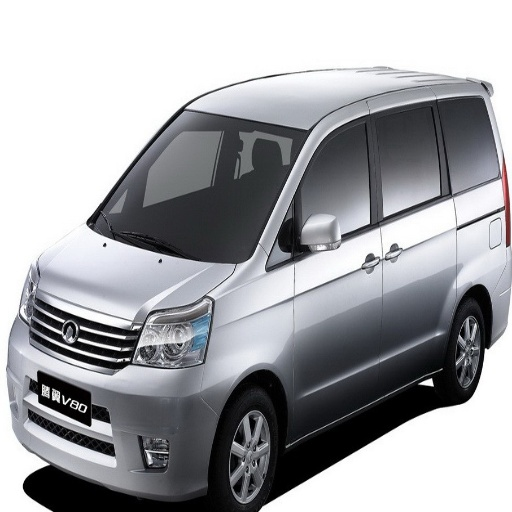front_bumper: (9, 335, 234, 495)
front_glass: (87, 111, 310, 259)
front_left_door: (270, 114, 383, 427)
trunk: (458, 241, 505, 301)
